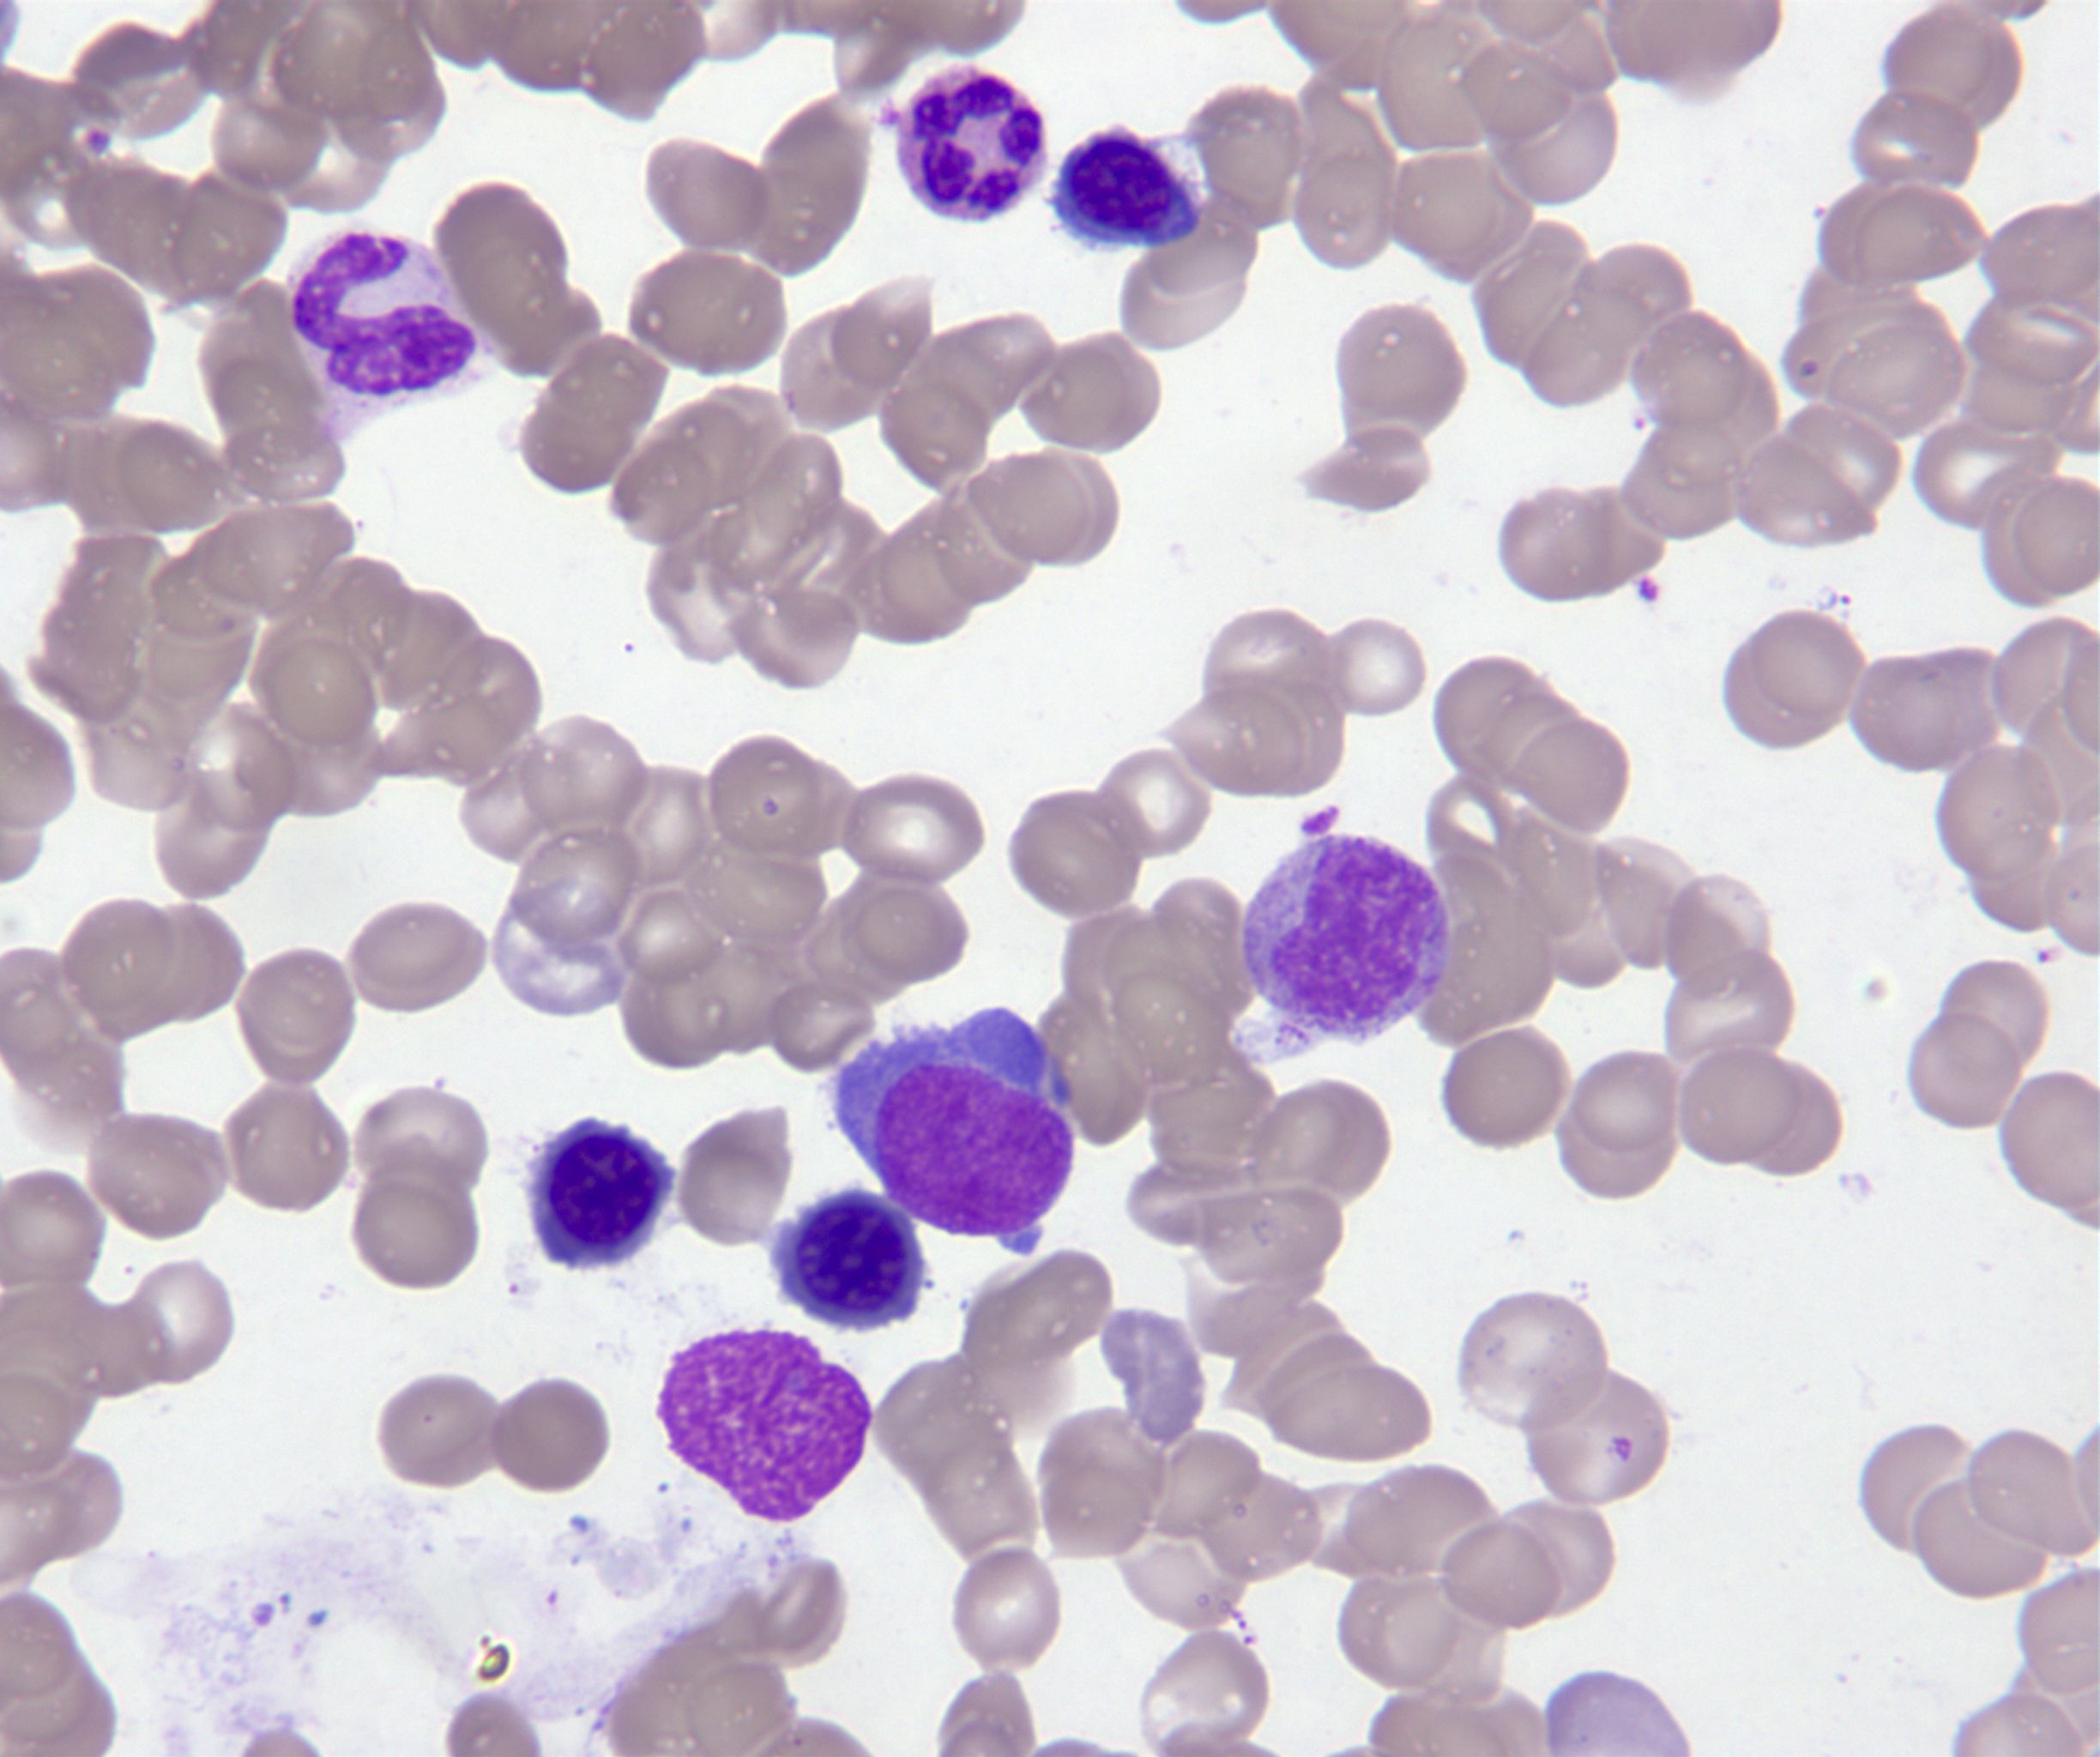22: (830, 1002, 1081, 1255)
24: (518, 1113, 682, 1279), (769, 1185, 924, 1338), (1050, 119, 1207, 253)
4: (1238, 832, 1458, 1045)
5: (284, 229, 497, 405)
6: (888, 63, 1048, 229)
x: (652, 1324, 883, 1530)
